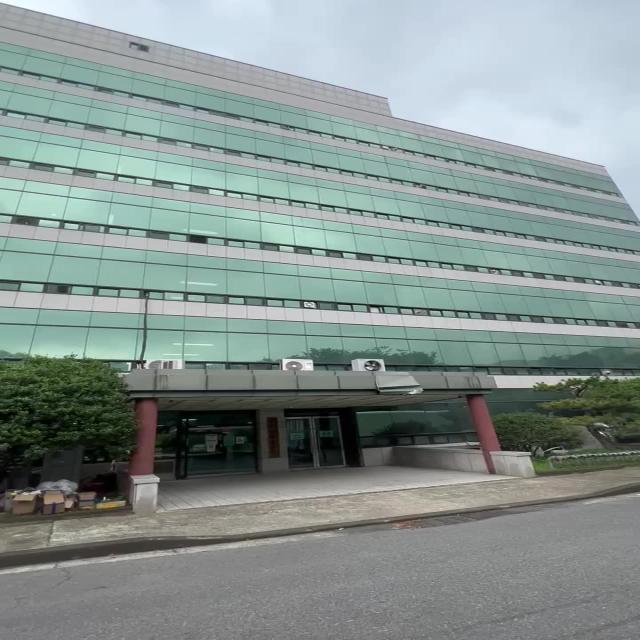building: (14, 29, 477, 372)
